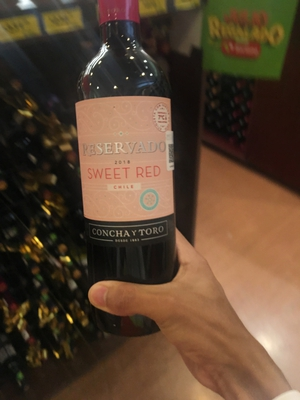reservado sweet red: (67, 23, 200, 320)
